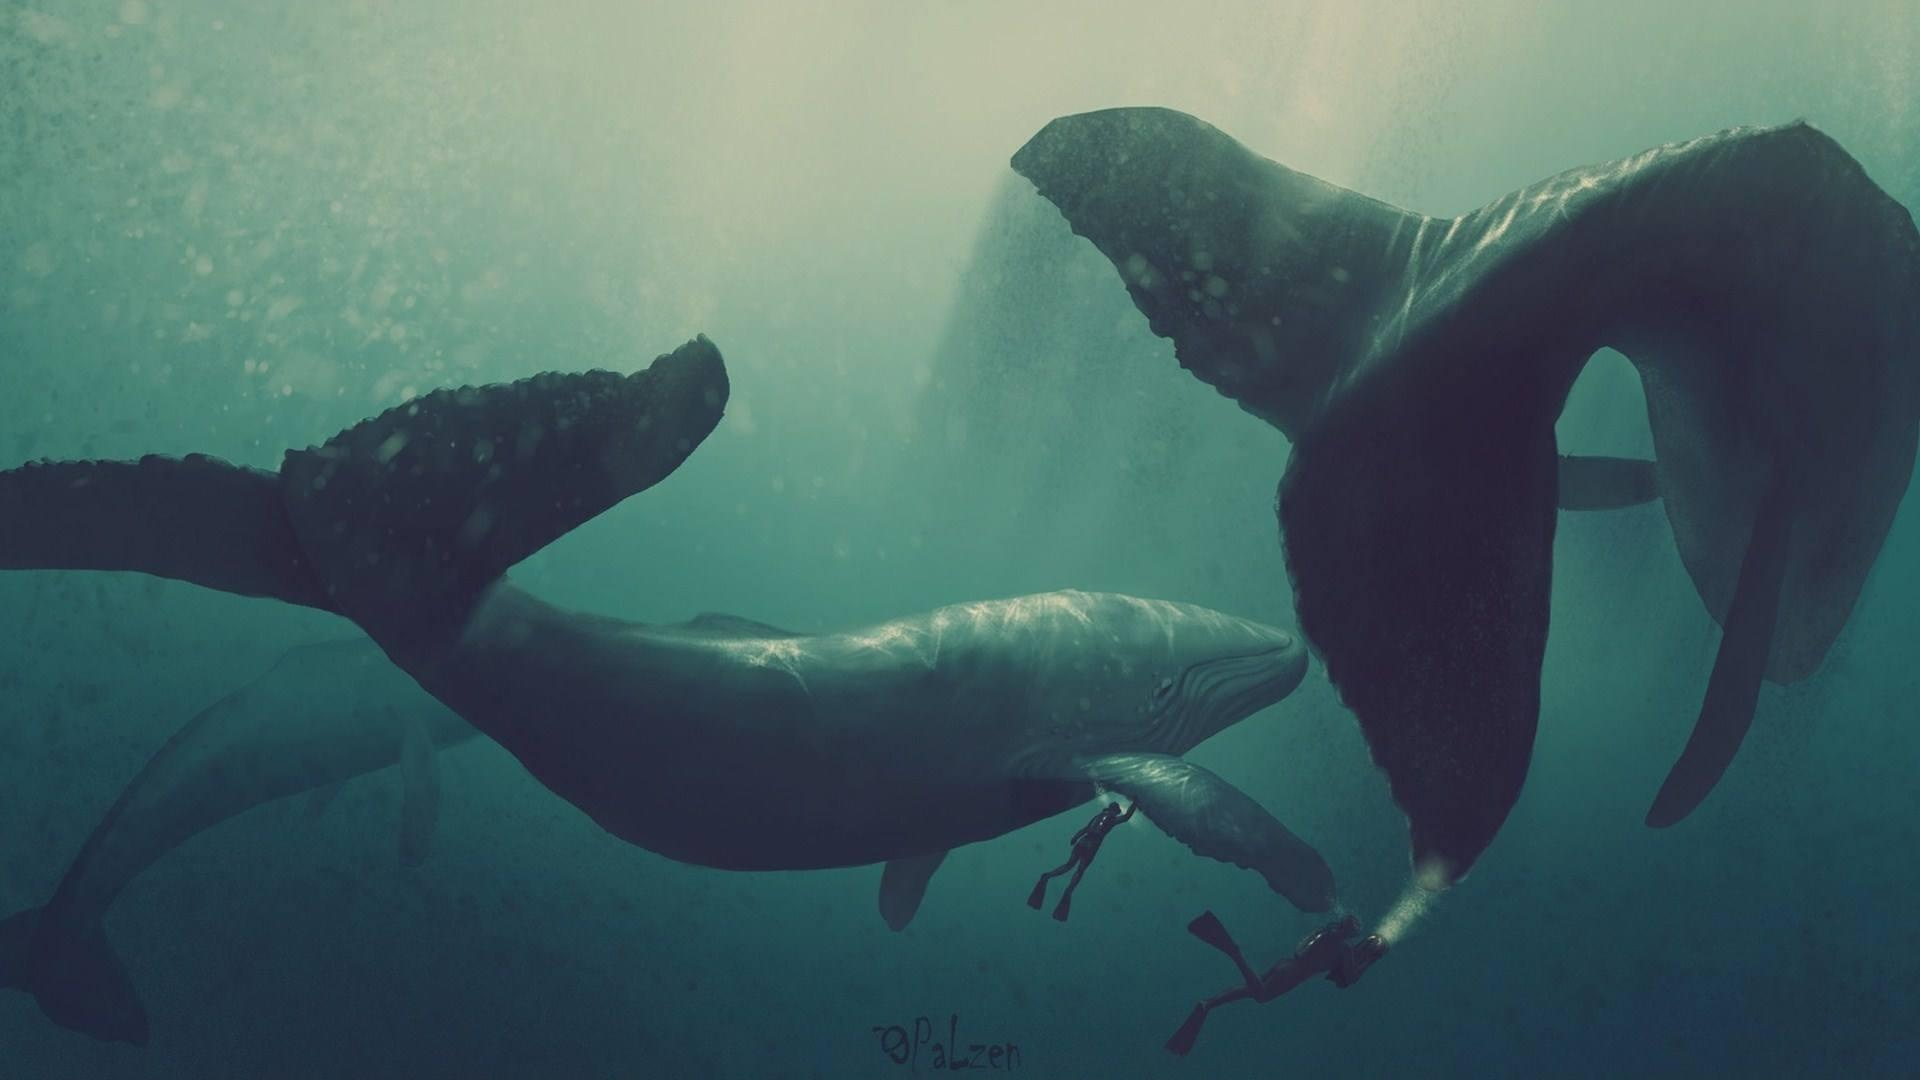fish: (25, 334, 1344, 915)
